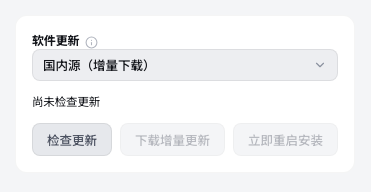
update settings › invalidates the checked version when switching channels
The width and height of the screenshot is (371, 192).
Click the button "检查更新": point(72, 140) [32,123,112,156]
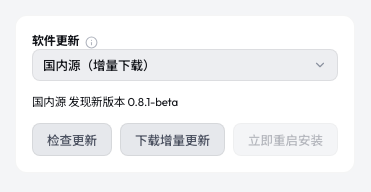
Now the button "下载增量更新" is enabled, box [120,123,225,156]
Click the dropdown named "更新渠道": point(99, 65) [32,49,338,81]
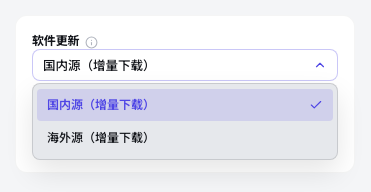
Click the option "海外源（增量下载）": point(101, 138) [47,130,155,145]
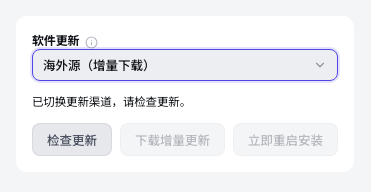
Expected: the button "立即重启安装" is disabled, [233,123,338,156]
Now the button "下载增量更新" is disabled, box [120,123,225,156]
